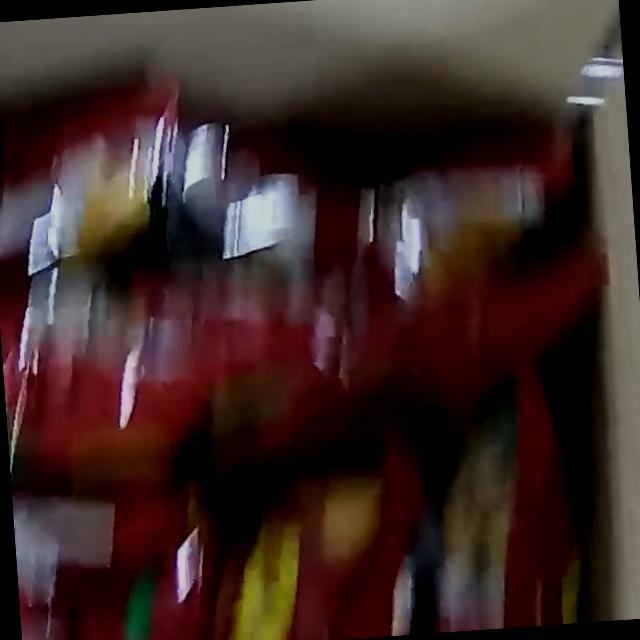masala: (0, 41, 630, 640)
